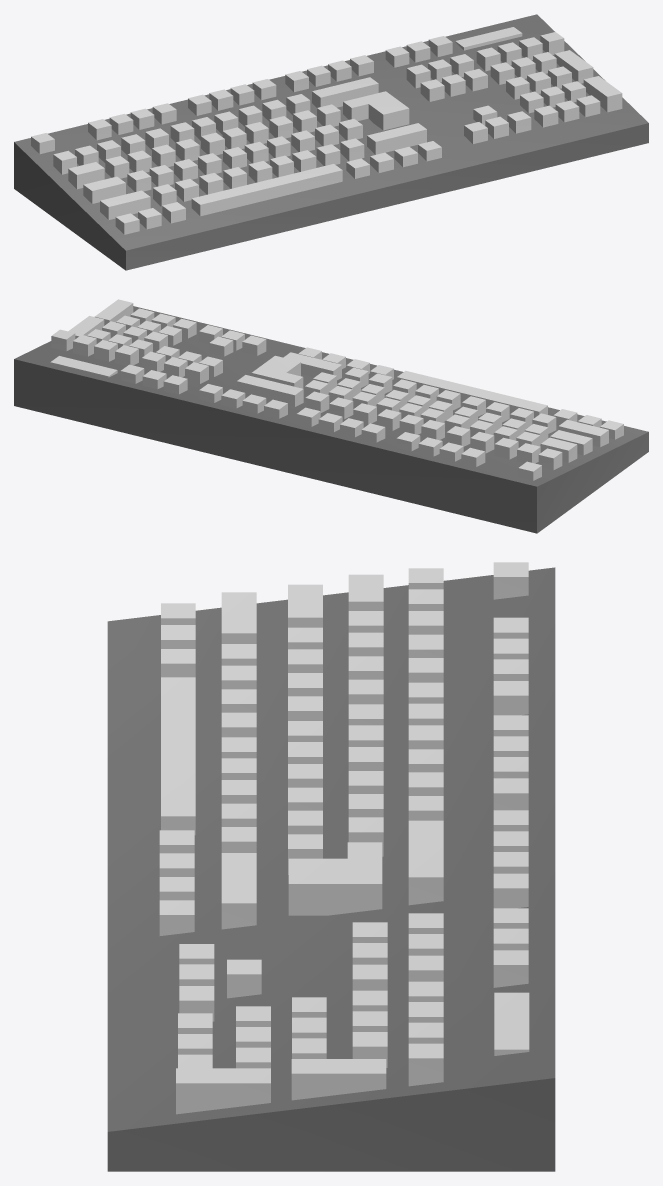
Rendered from Keyboard.fbx.
3 renders of one model, top to bottom at view 1: azimuth 30°, elevation 25°; view 2: azimuth 150°, elevation 25°; view 3: azimuth 270°, elevation 25°, orthographic. The views are drawn at different scales.
Parts seen in each view (by area): view 1: Keyboard; view 2: Keyboard; view 3: Keyboard.
Boxes of the visible parts, bbox=[...] form: Keyboard: bbox=[14, 14, 648, 270]; Keyboard: bbox=[14, 299, 648, 533]; Keyboard: bbox=[107, 562, 555, 1171].
Bounding box in the file's own units: 41.57 × 4.14 × 15.39.
